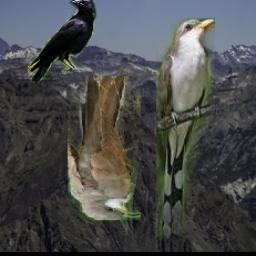Crow: (28, 0, 96, 83)
Cuckoo: (155, 18, 214, 241), (68, 77, 141, 221)
